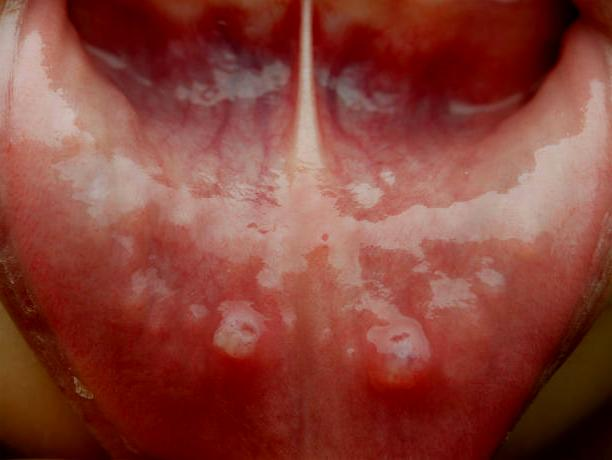Ulcer: (108, 219, 473, 426)
